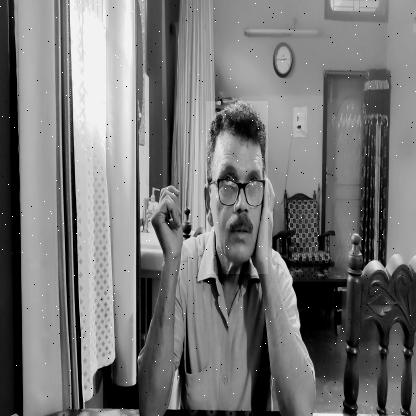Normal: (206, 101, 268, 274)
